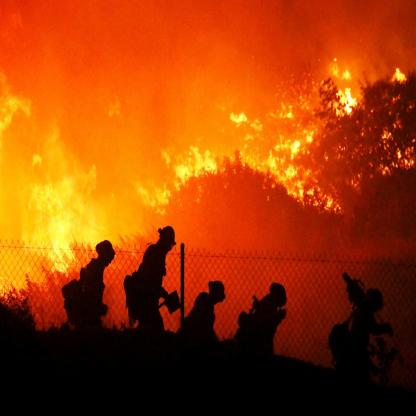fire: (138, 68, 414, 218), (0, 71, 102, 274)
